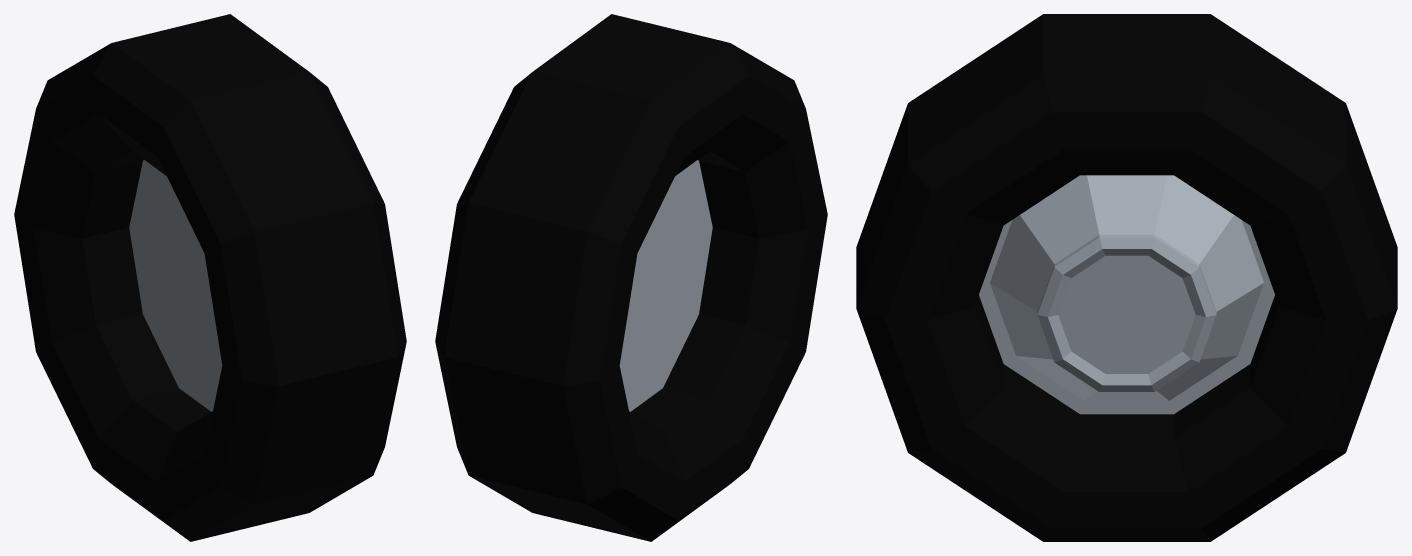
The model's file is Bus_01_2.fbx.
3 renders of one model, left to right at view 1: azimuth 30°, elevation 25°; view 2: azimuth 150°, elevation 25°; view 3: azimuth 270°, elevation 25°, orthographic. The views are drawn at different scales.
Parts seen in each view (by area): view 1: Bus_01_2; view 2: Bus_01_2; view 3: Bus_01_2.
Boxes of the visible parts, <box> form: Bus_01_2: <box>14,14,406,541</box>; Bus_01_2: <box>435,14,827,541</box>; Bus_01_2: <box>856,14,1397,541</box>.
Bounding box in the file's own units: 33.36 × 85.54 × 89.94.
